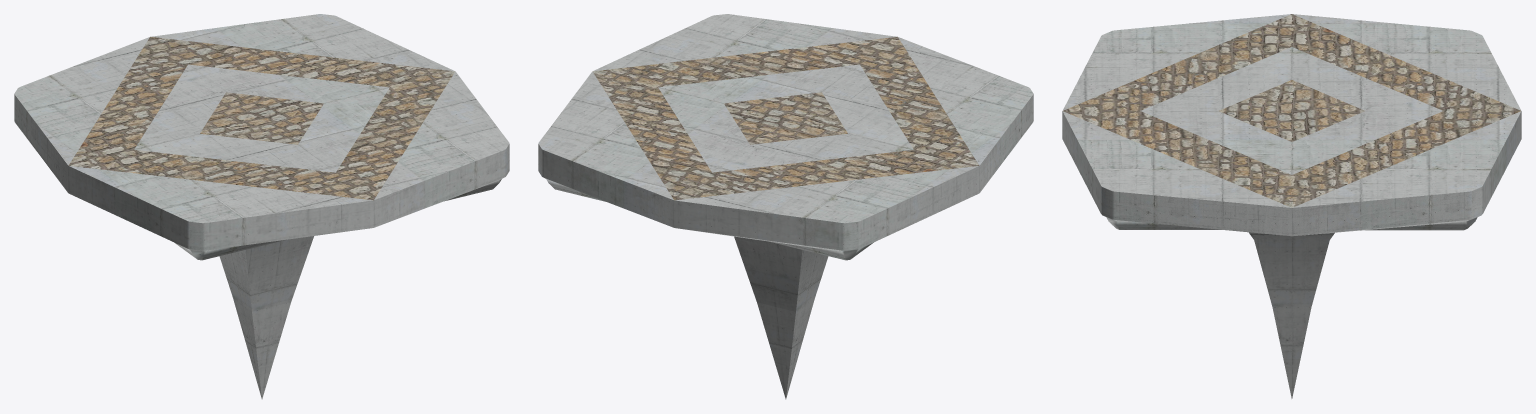
File: Spinning_Path.fbx
The picture shows the model from 3 angles, left to right: view 1: azimuth 30°, elevation 25°; view 2: azimuth 150°, elevation 25°; view 3: azimuth 270°, elevation 25°; orthographic projection. The views are drawn at different scales.
Visible parts, largest first — view 1: Spinning_Path; view 2: Spinning_Path; view 3: Spinning_Path.
Part boxes in pixels (bbox=[...]): Spinning_Path: bbox=[14, 14, 509, 399]; Spinning_Path: bbox=[538, 14, 1033, 399]; Spinning_Path: bbox=[1062, 14, 1521, 398].
Size of the model in its own units: 5 by 3.47 by 5.
2 materials, 2 textured.
